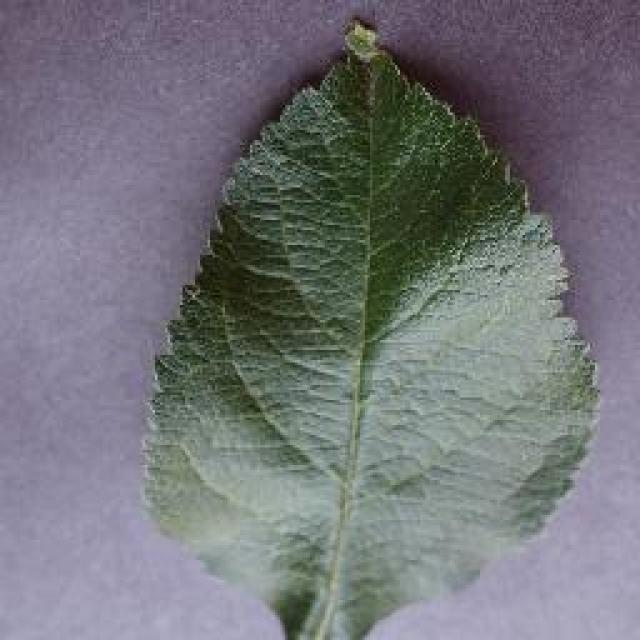apple healthy: (138, 15, 602, 637)
